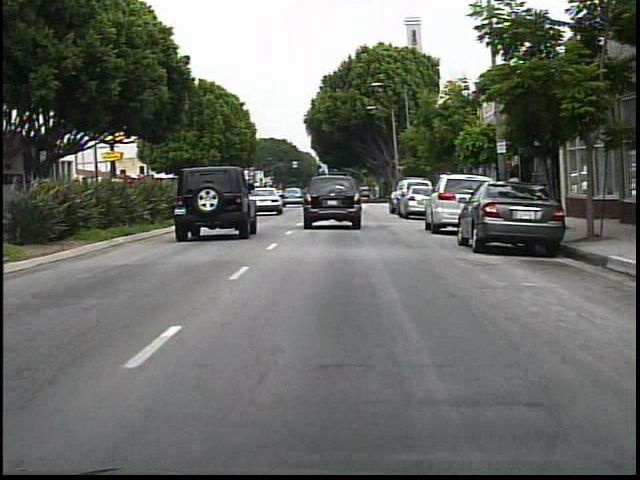person: (503, 164, 526, 219)
